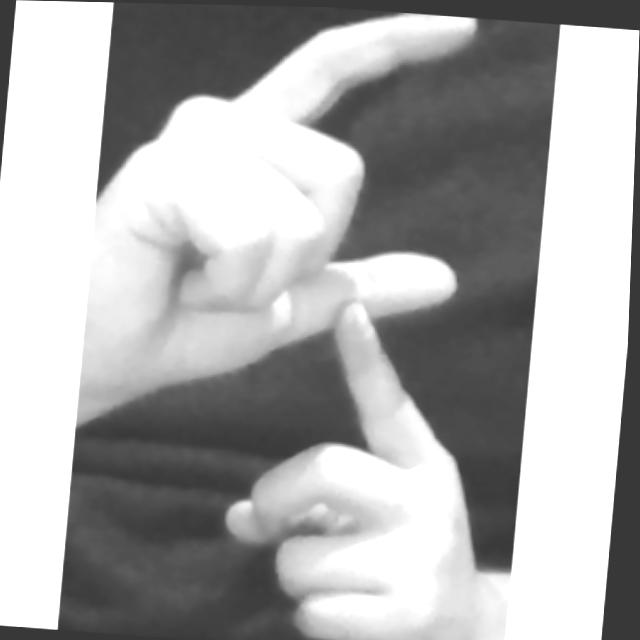C_: (56, 2, 562, 640)
